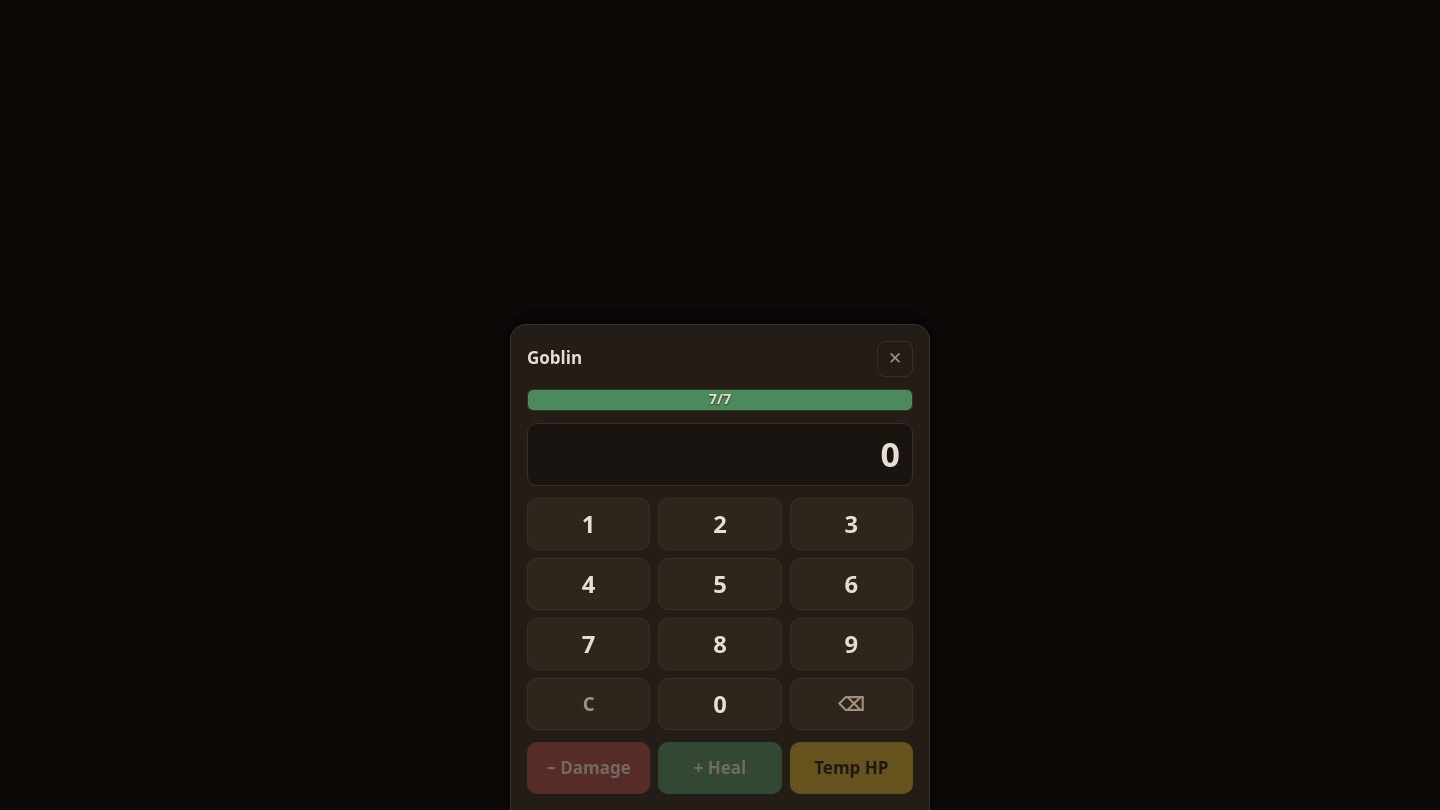
Test case: HpSheet › builds the amount from the keypad
Click the button "1" at (589, 524), box x1=527 y1=498 x2=650 y2=550
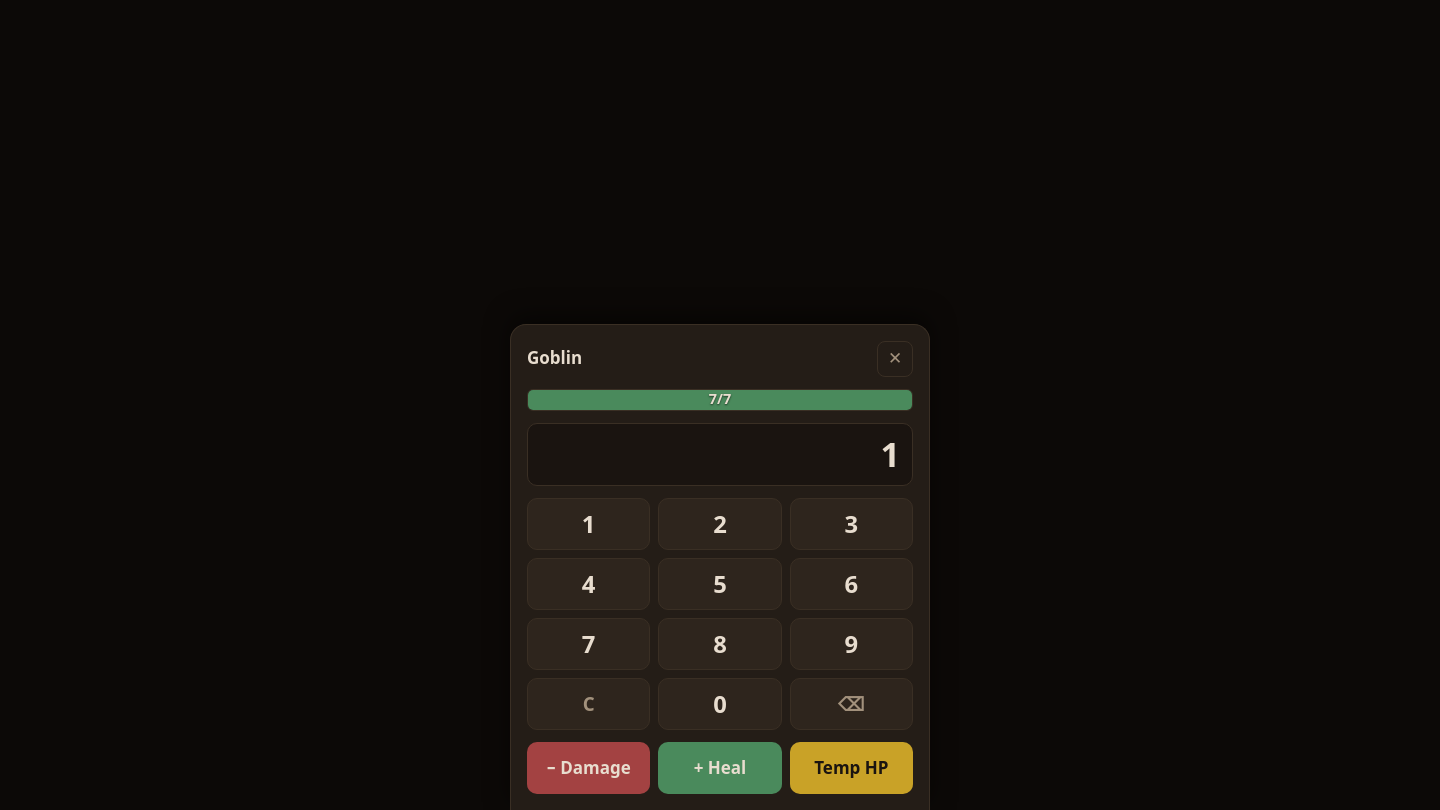
Click the button "2" at (720, 524), box x1=658 y1=498 x2=782 y2=550
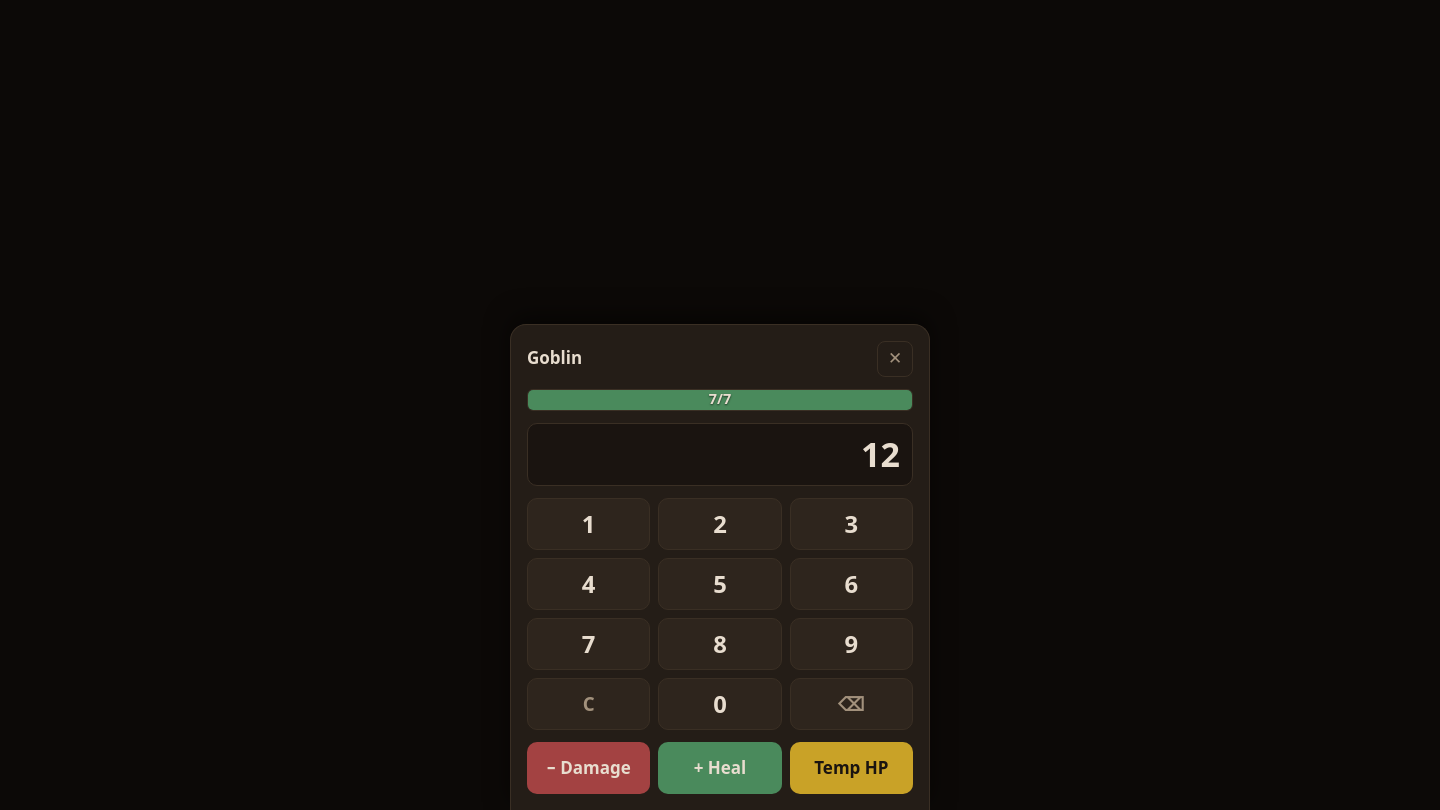
Expected: the text named "Amount" reads "12", x1=861 y1=431 x2=900 y2=477
